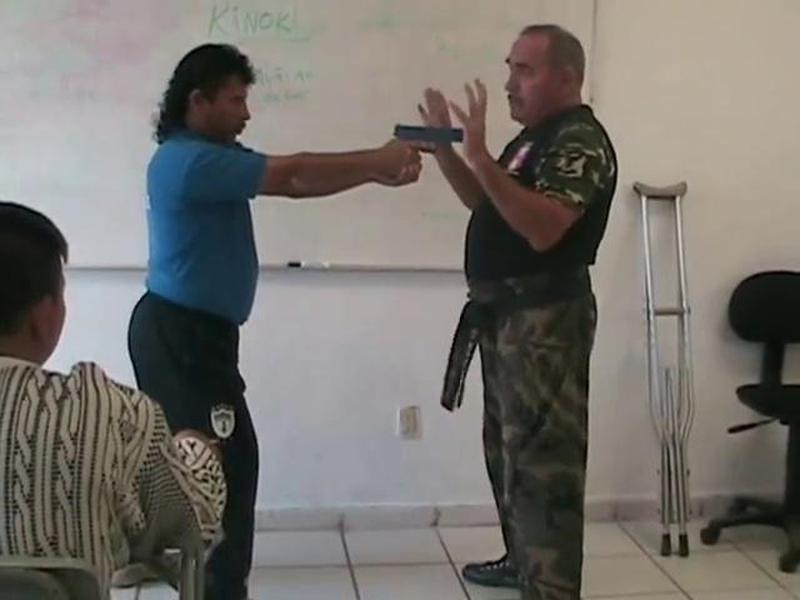Pistola: (380, 116, 478, 190)
